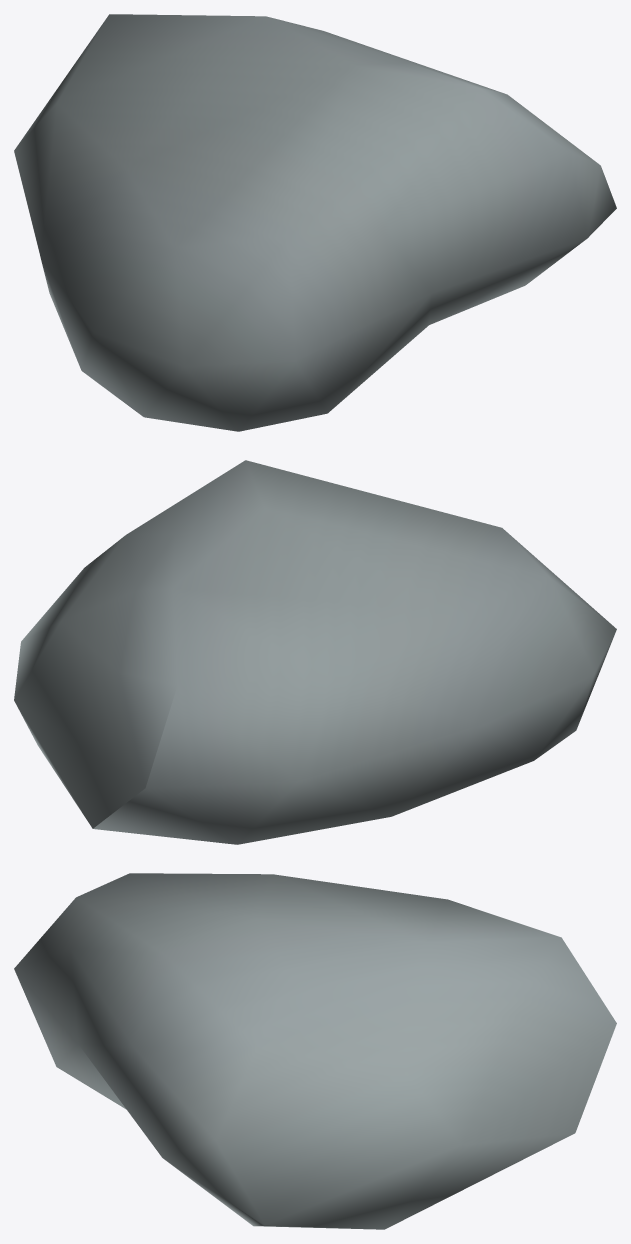
The model's file is Small_Rock_4.fbx.
3 renders of one model, top to bottom at view 1: azimuth 30°, elevation 25°; view 2: azimuth 150°, elevation 25°; view 3: azimuth 270°, elevation 25°, orthographic. The views are drawn at different scales.
Parts seen in each view (by area): view 1: Small Rock 4; view 2: Small Rock 4; view 3: Small Rock 4.
Part boxes in pixels (left/top/right/bottom): Small Rock 4: left=14, top=14, right=616, bottom=431; Small Rock 4: left=14, top=460, right=616, bottom=844; Small Rock 4: left=14, top=873, right=616, bottom=1229.
Size of the model in its own units: 181 by 77.13 by 181.
